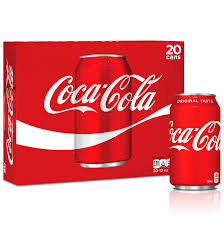can: (166, 87, 224, 196)
